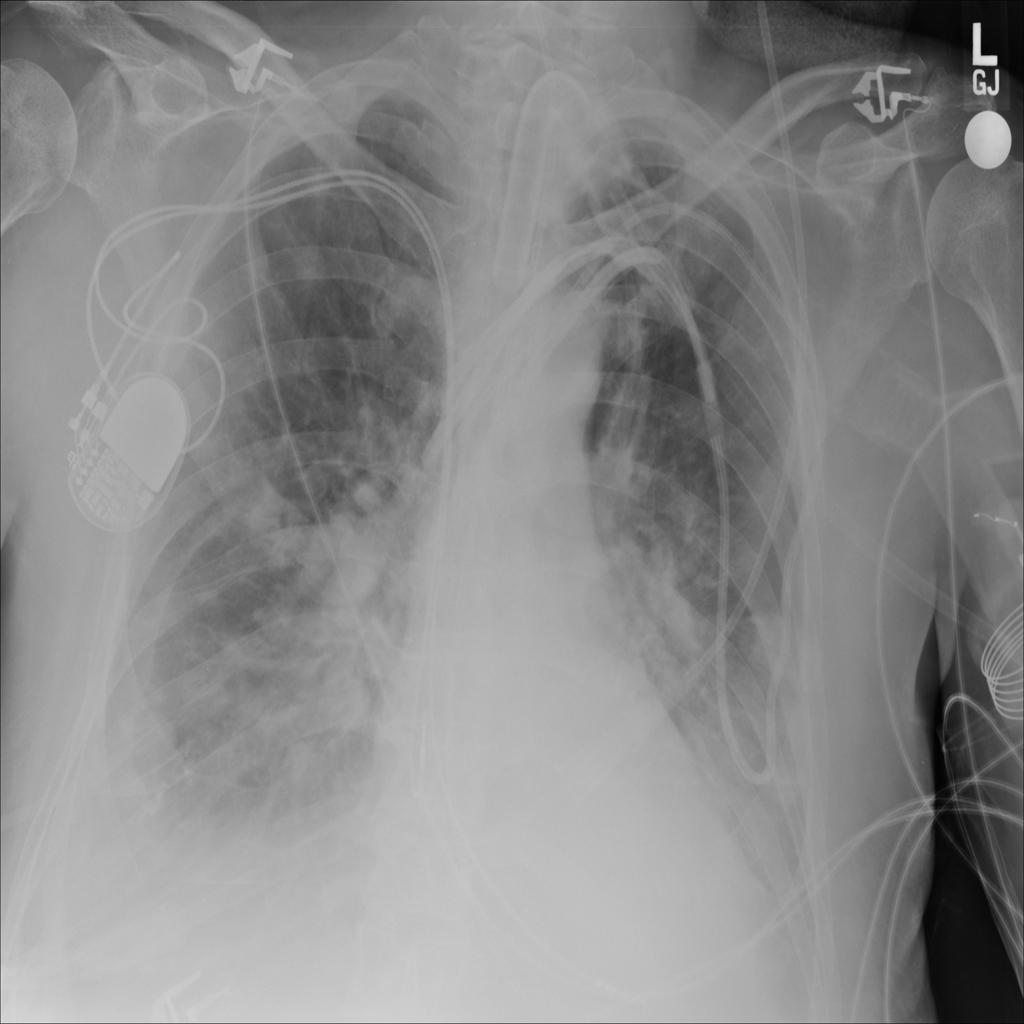nodule: (285, 490, 405, 635), (306, 658, 377, 741), (271, 725, 339, 804), (272, 227, 341, 301)
